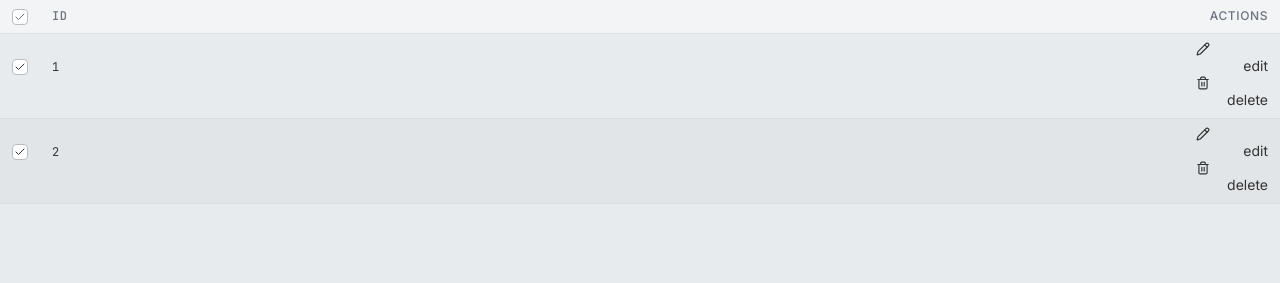
Test: select-all checks every row on the page
Click the checkbox named "Select all rows": (20, 17) [12,9,28,25]
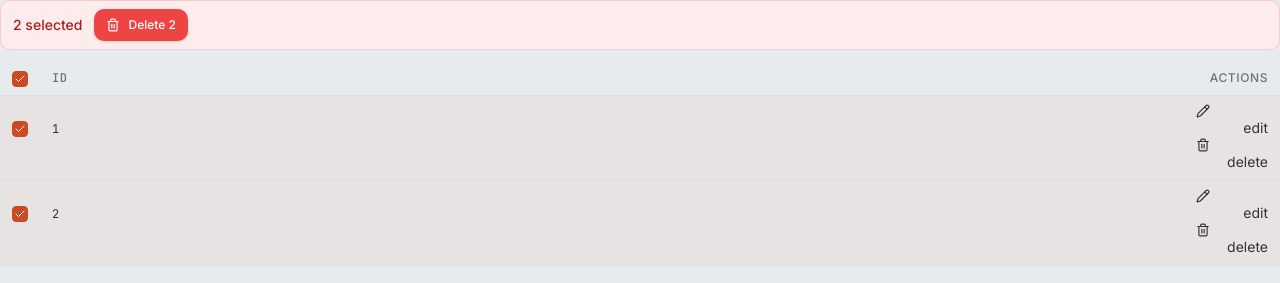
Expected: the button "Delete 2" is shown, [94,9,188,41]
